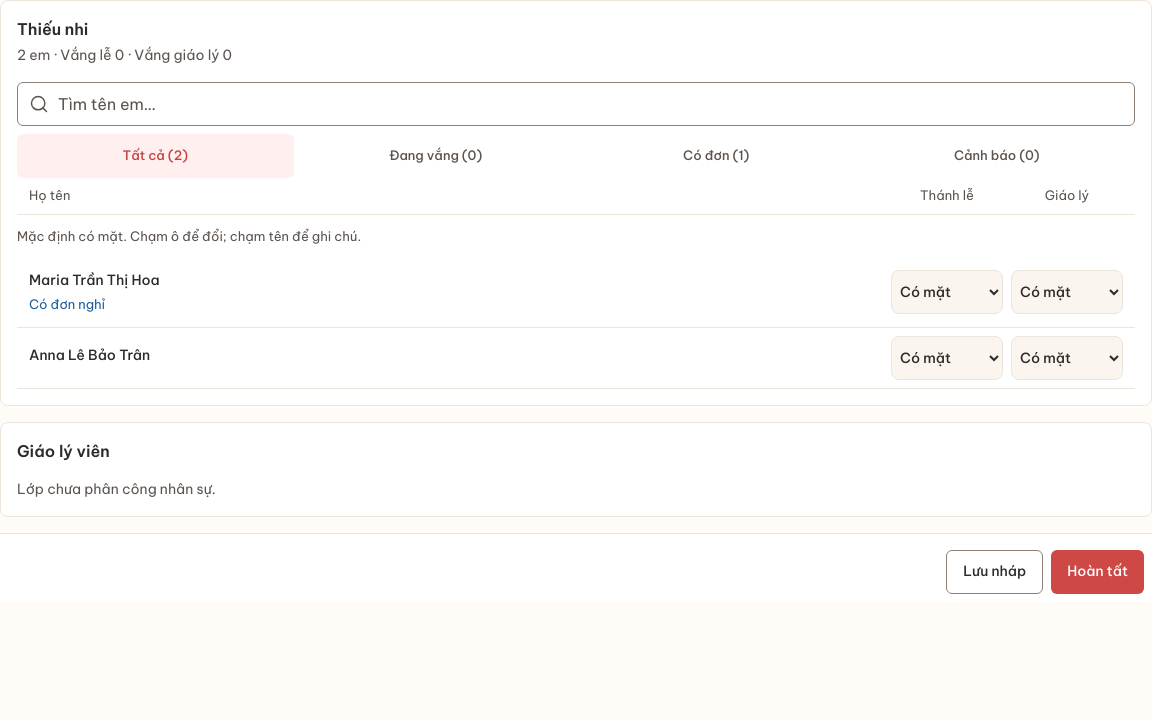
D-75 — ghi chú là ghi chú NỘI BỘ › sheet ghi chú nói thẳng phụ huynh không nhìn thấy
The image size is (1152, 720).
Click the button "Maria Trần Thị Hoa Có đơn nghỉ" at (94, 280), box x1=29 y1=266 x2=883 y2=318
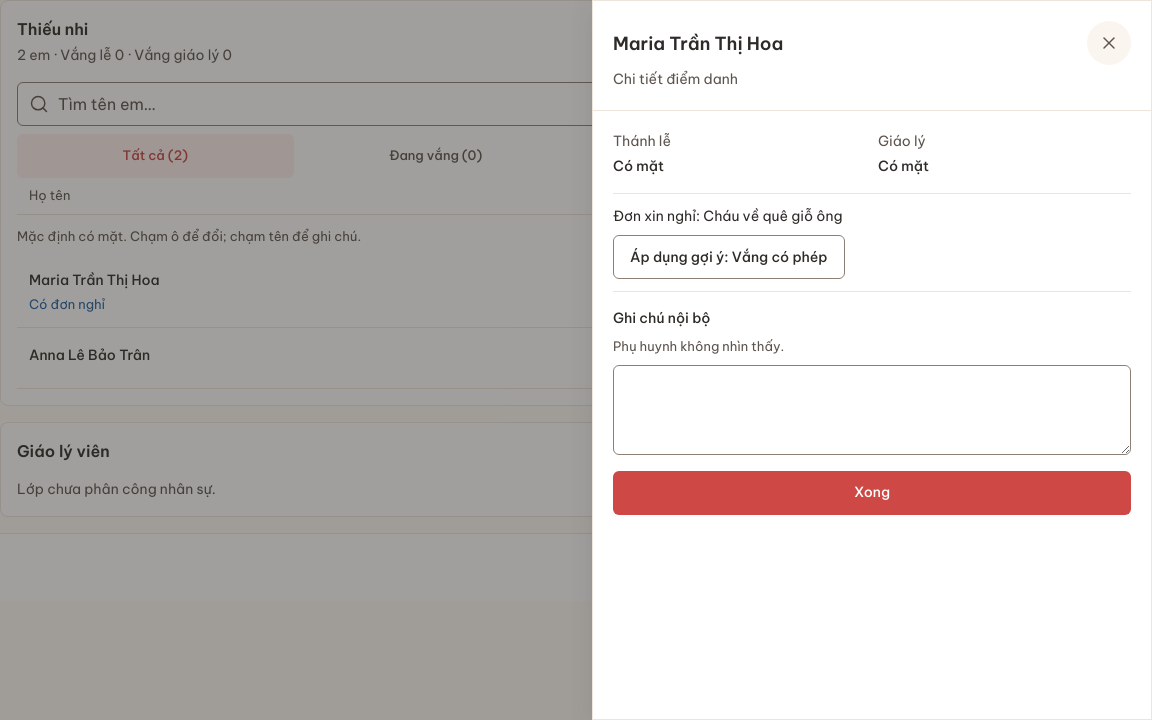
Expected: the text "Phụ huynh không nhìn thấy." is shown, x1=613 y1=338 x2=784 y2=354
